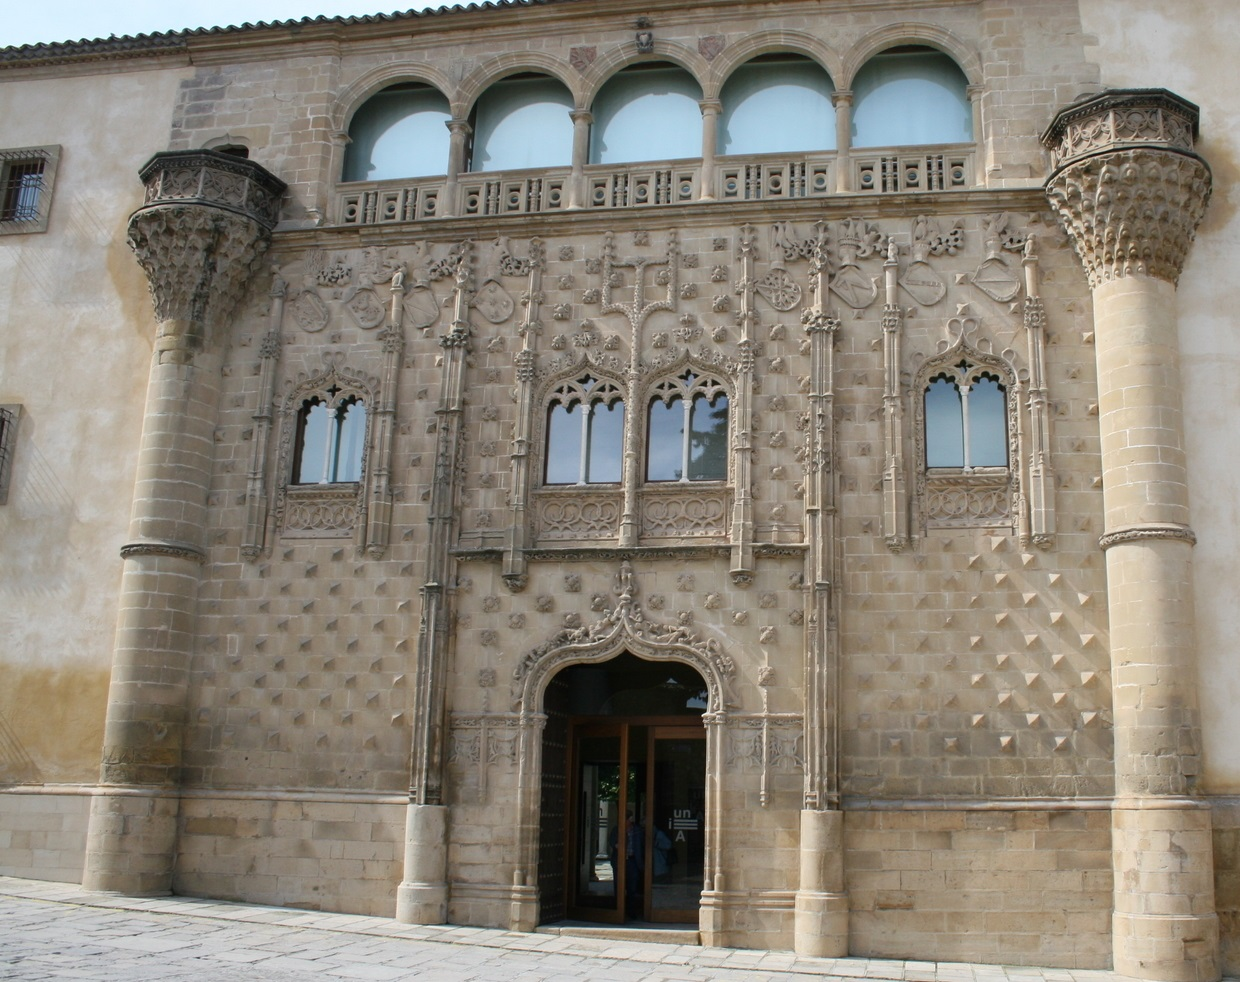arco-conopial: (521, 607, 722, 683), (911, 330, 1024, 389), (636, 343, 741, 401), (280, 358, 380, 410), (535, 349, 630, 400)
arco-medio-punto: (841, 27, 981, 104), (710, 33, 845, 111), (582, 41, 712, 121), (456, 49, 584, 130), (334, 60, 459, 140)
